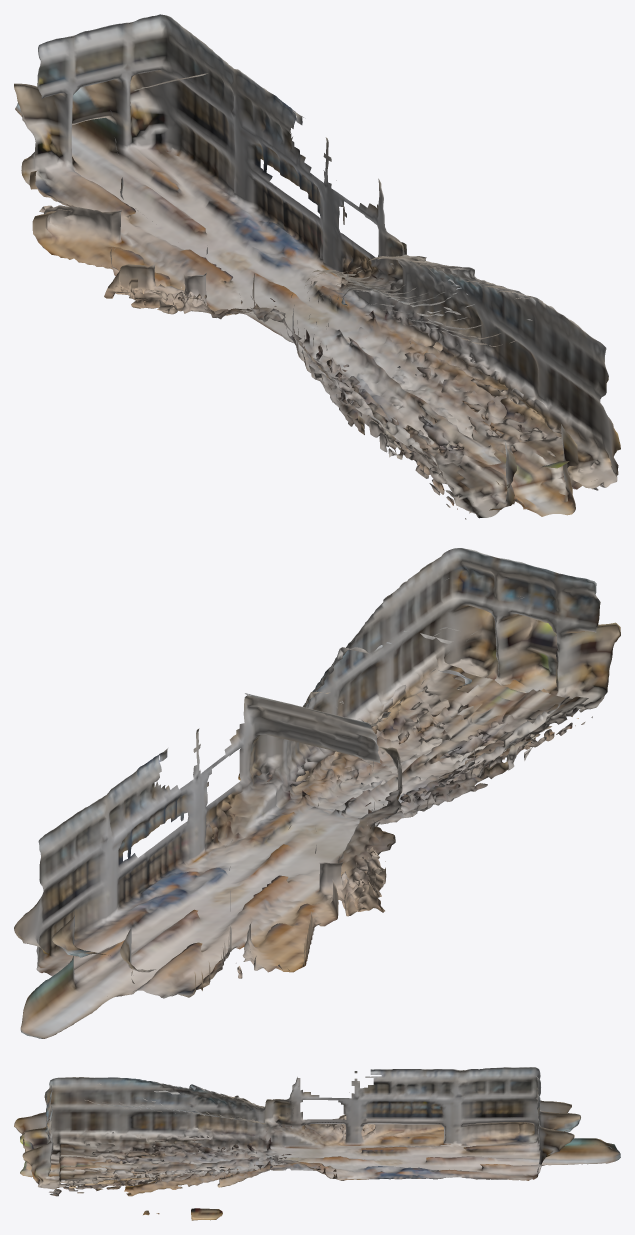
Rendered from drosdick_collider.glb.
The picture shows the model from 3 angles, top to bottom: view 1: azimuth 30°, elevation 25°; view 2: azimuth 150°, elevation 25°; view 3: azimuth 270°, elevation 25°; orthographic projection. The views are drawn at different scales.
Visible parts, largest first — view 1: world; view 2: world; view 3: world.
Boxes of the visible parts, x1,y1,x2,y2 form: world: (14, 14, 620, 519); world: (14, 548, 620, 1038); world: (14, 1067, 620, 1220).
Bounding box in the file's own units: 22.42 × 12.81 × 72.15.
